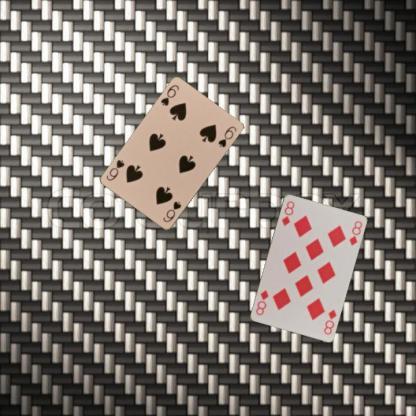6s: (160, 198, 182, 223), (158, 82, 180, 107)
8d: (322, 306, 338, 336), (279, 198, 295, 227)
